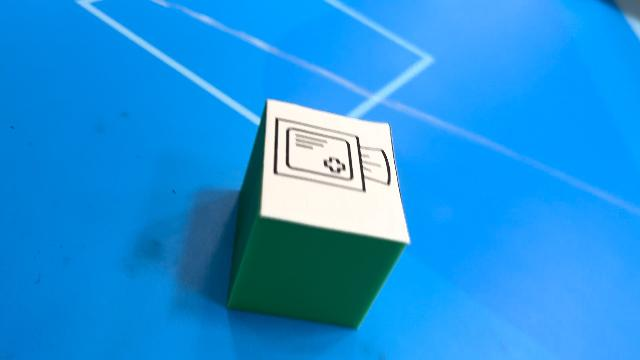napkin: (225, 97, 412, 331)
